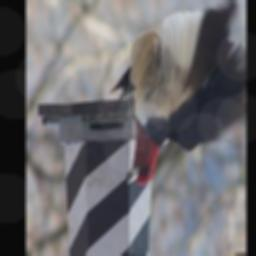Woodpecker: (114, 2, 247, 197)
